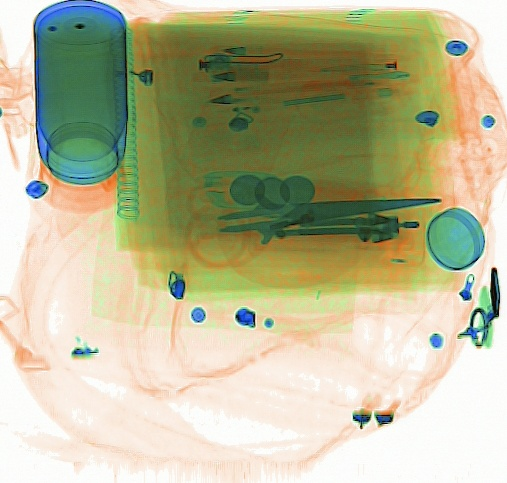scissors: (183, 173, 442, 270)
